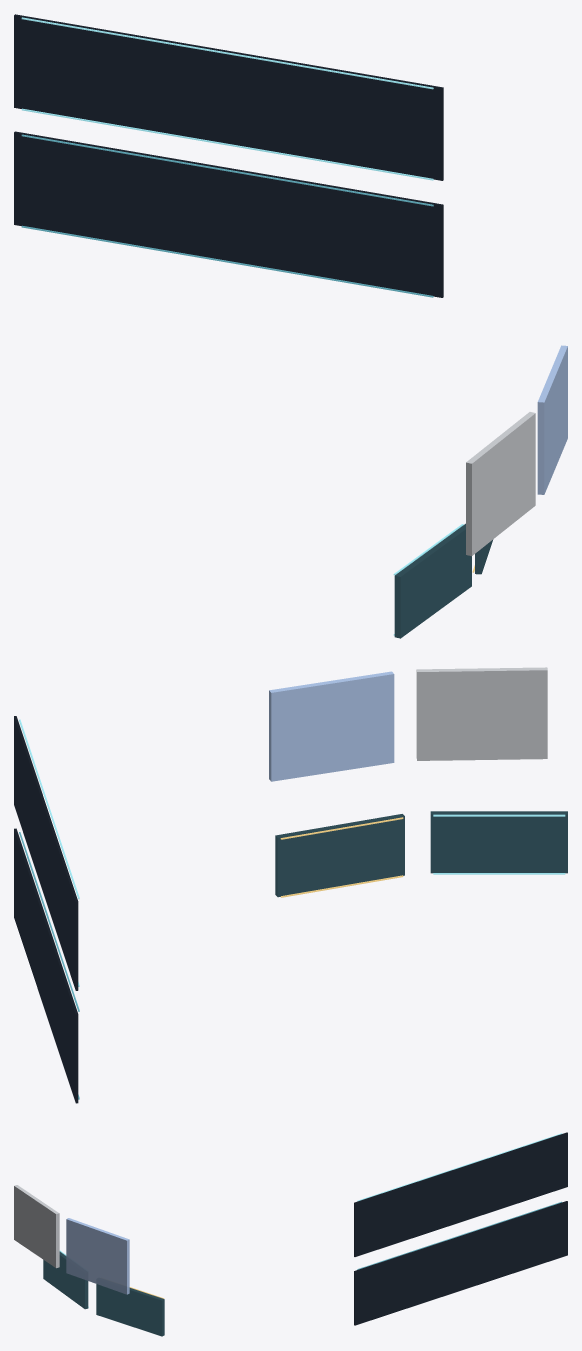
File: world.glb
The picture shows the model from 3 angles, top to bottom: view 1: azimuth 30°, elevation 25°; view 2: azimuth 150°, elevation 25°; view 3: azimuth 270°, elevation 25°; orthographic projection. The views are drawn at different scales.
Parts seen in each view (by area): view 1: MrStatus, MrTitle, MrSolid, MrBtnFade, MrFade; view 2: MrSolid, MrFade, MrBtnFade, MrBtnPlates, MrStatus, MrTitle; view 3: MrTitle, MrStatus, MrFade, MrSolid, MrBtnPlates, MrBtnFade.
Boxes of the visible parts, x1,y1,x2,y2 form: MrStatus: (14,131,443,297); MrTitle: (14,14,443,180); MrSolid: (466,412,535,556); MrBtnFade: (393,523,471,638); MrFade: (537,345,567,494); MrSolid: (416,667,547,760); MrFade: (269,671,394,781); MrBtnFade: (430,811,567,874); MrBtnPlates: (275,814,404,897); MrStatus: (14,828,79,1103); MrTitle: (14,716,79,990); MrTitle: (354,1132,567,1256); MrStatus: (354,1201,567,1325); MrFade: (66,1218,129,1294); MrSolid: (14,1185,59,1268); MrBtnPlates: (96,1284,164,1336); MrBtnFade: (43,1250,88,1309).
Size of what is drawn, in the model's own units: 1.06 by 0.91 by 2.79.
